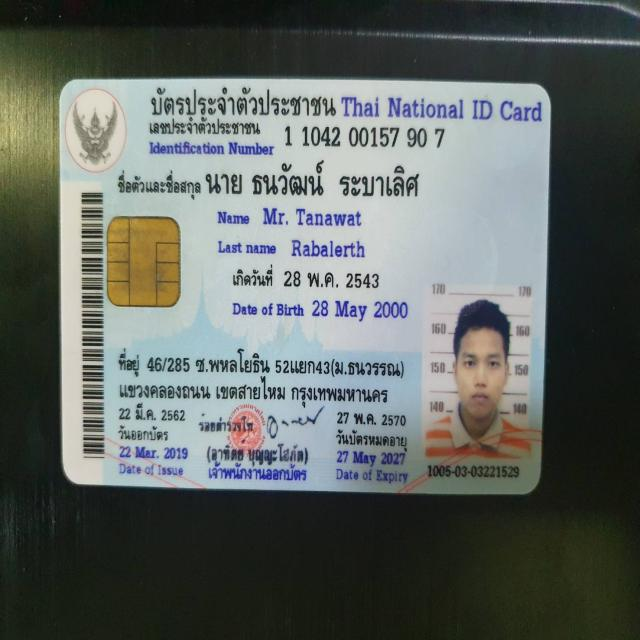Address_th: (112, 342, 409, 409)
Date_of_Birth: (307, 290, 417, 334)
Date_of_Expiry: (333, 444, 411, 471)
Date_of_Issue: (115, 439, 190, 464)
First_Name: (256, 200, 371, 231)
ID_Number: (278, 120, 453, 157)
Image: (421, 280, 531, 460)
Last_Name: (284, 234, 374, 266)
Thai_Name: (199, 158, 427, 206)
